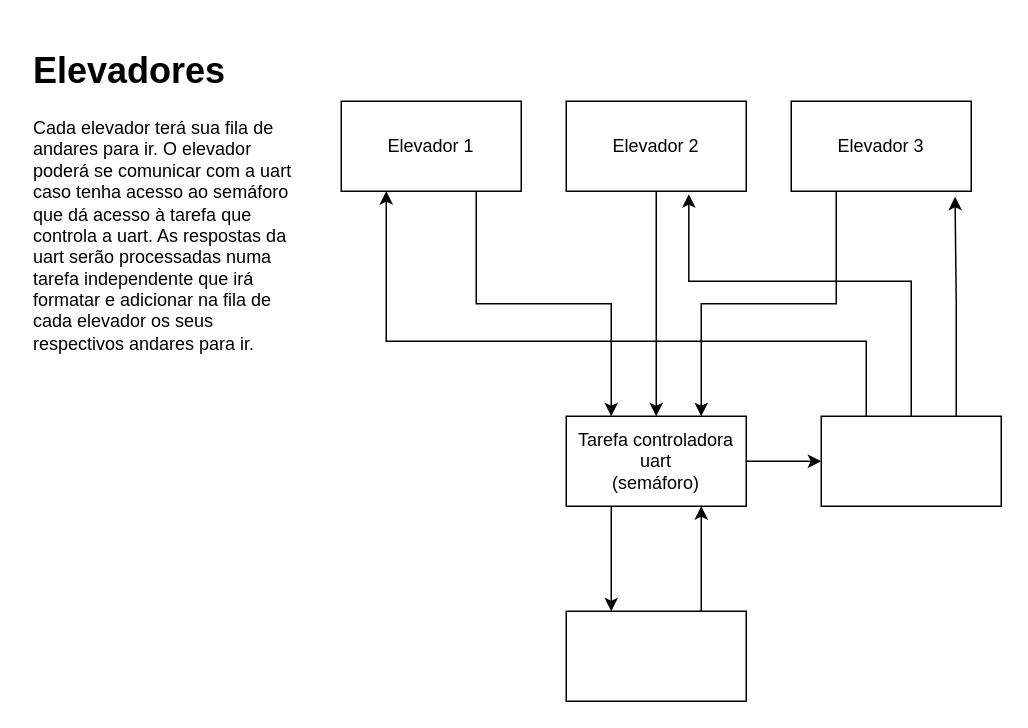
Image size: 1028x728. Some labels were removed from this diagram. Each missing label, with the centre of its shape:
tarefa organizadora: the point at 910,460
uart: the point at 655,655
